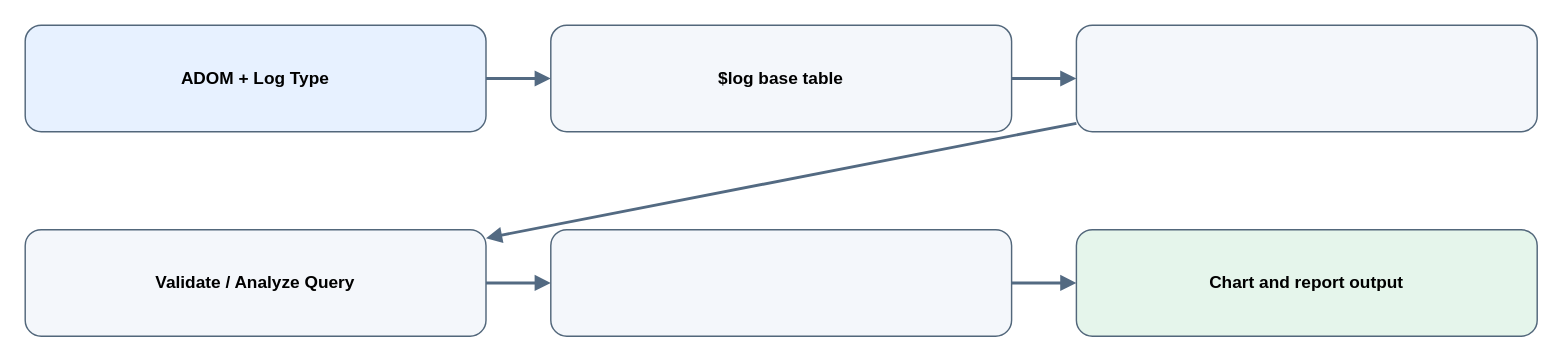
Some shapes in this 1562 by 361 pixel diagram are drawn without their labels. Here are the shapes that lost their labels. From the top down, the centre of each, then its label:
At (x=1306, y=78): "SQL with $filter".
At (x=780, y=282): "Transformed SQL + hcache".
